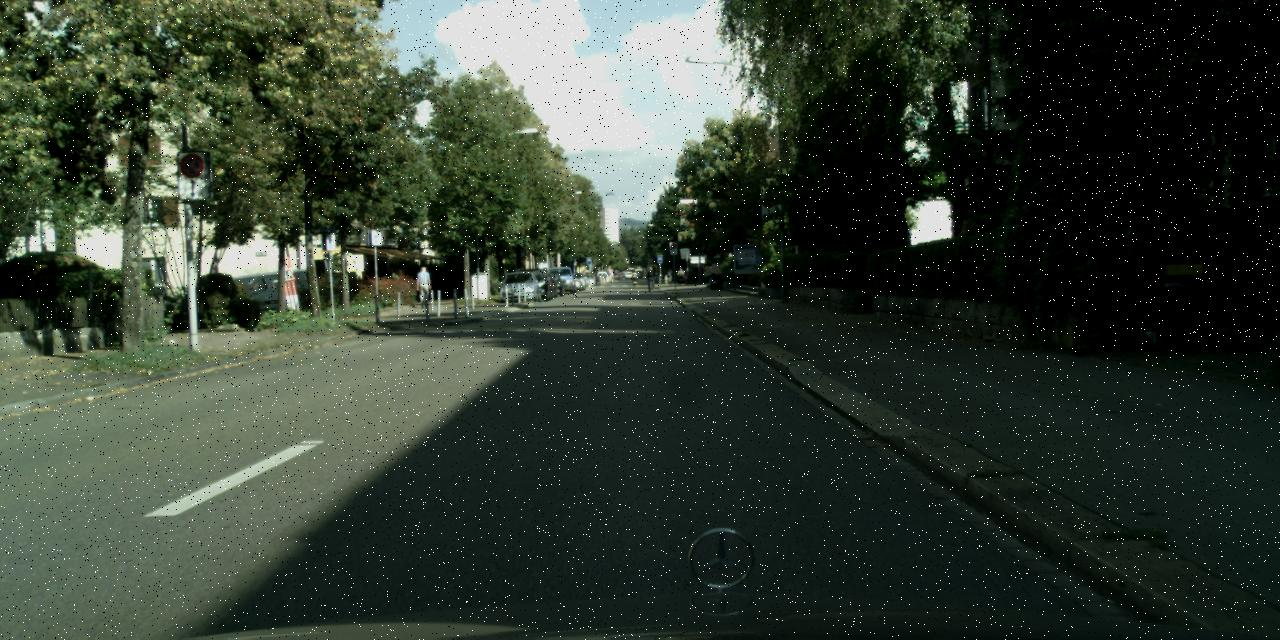ped: (415, 266, 431, 305), (646, 266, 654, 288), (676, 266, 683, 284)
